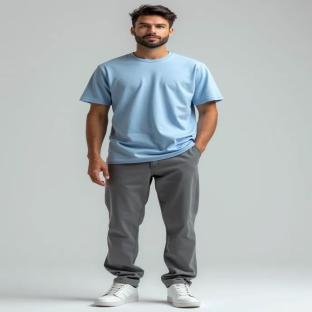Human: (80, 5, 223, 307)
